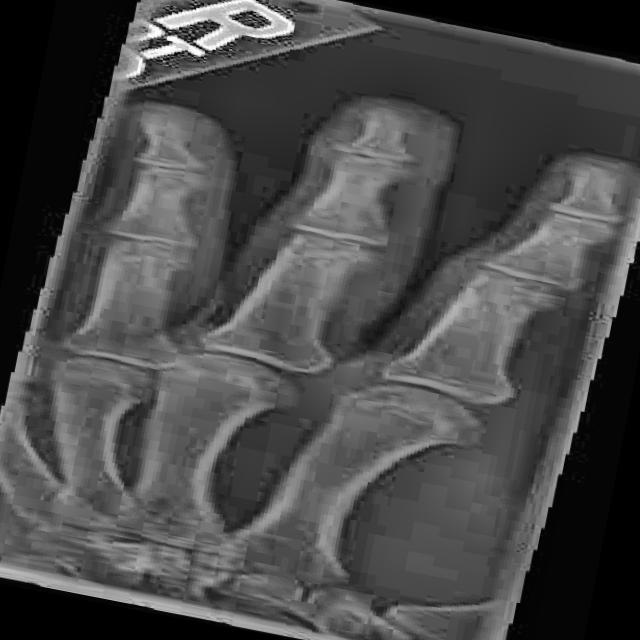fingers positive: (263, 222, 408, 264), (322, 133, 391, 165)
